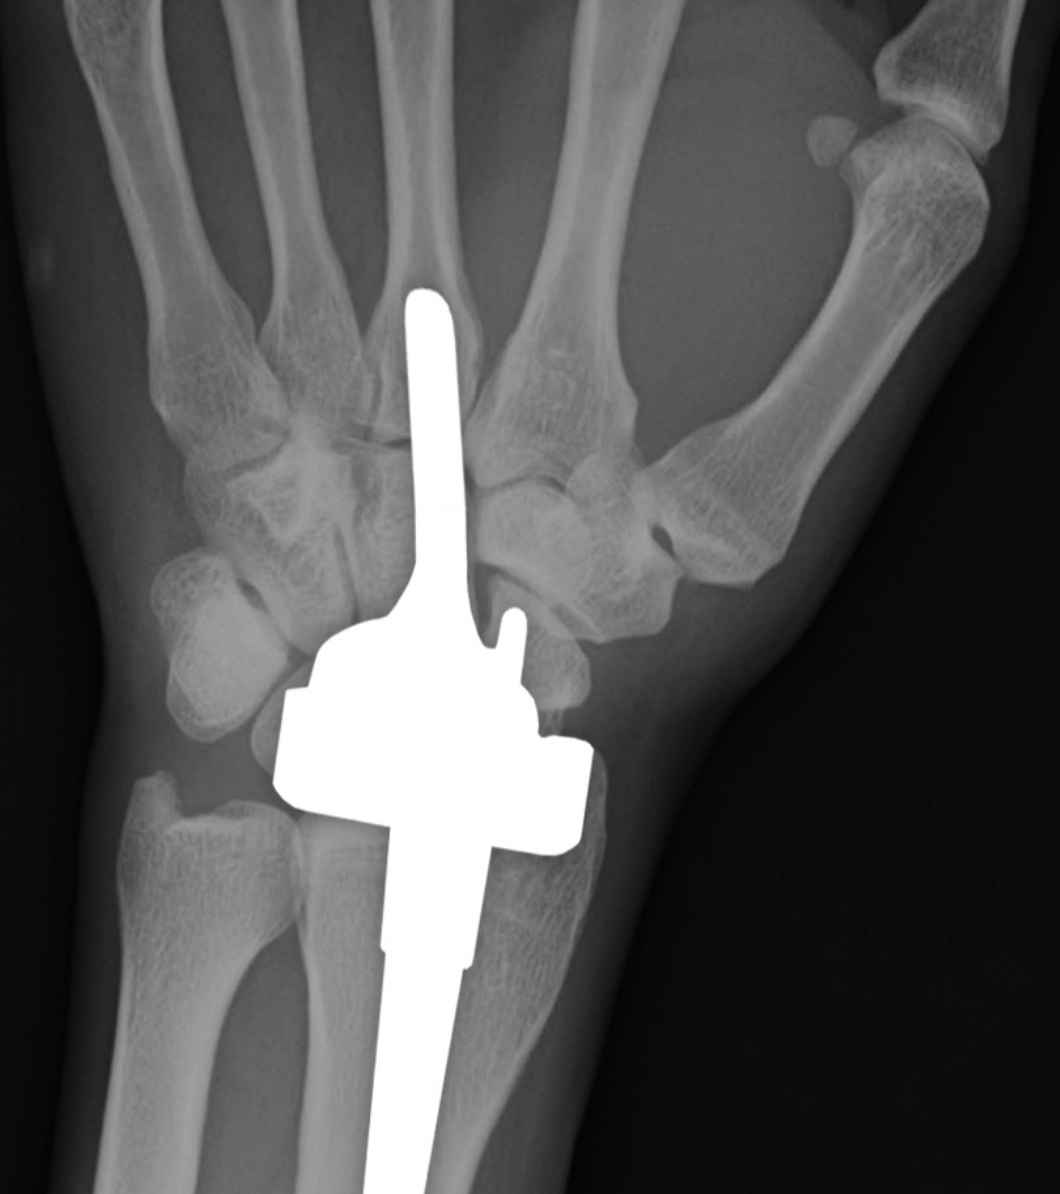Wrist-Biax-DePuuy: (241, 285, 600, 1194)
